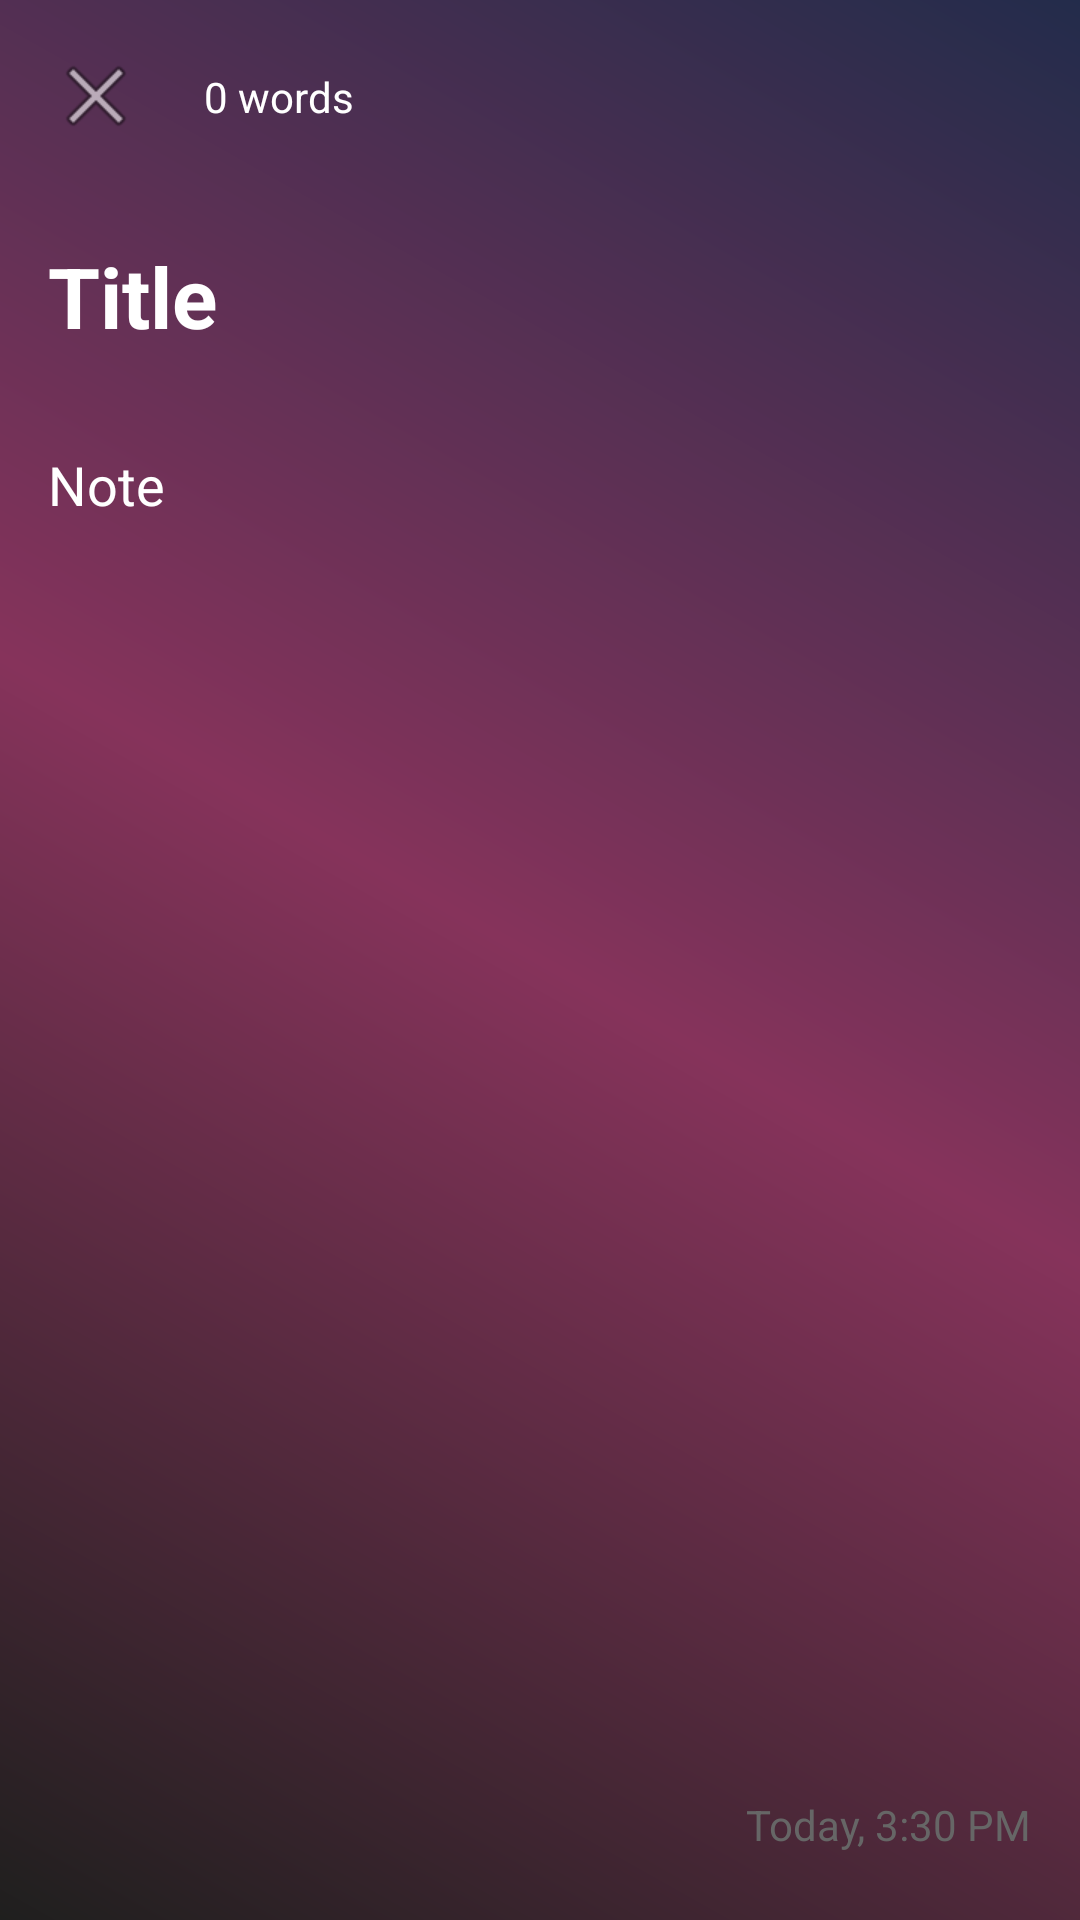

Icons on this 1080px x 1920px Android screen, each with its box as detection(x1, y1, x2, y2):
Back: detection(67, 67, 125, 125)
